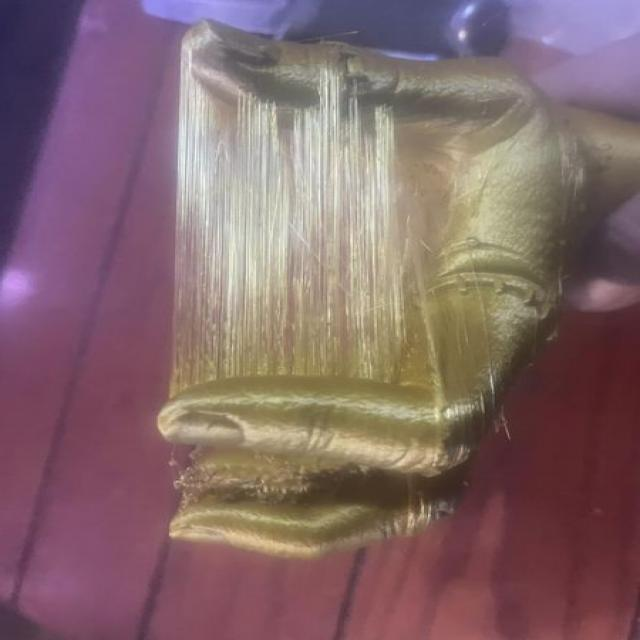stringing: (183, 49, 401, 416)
